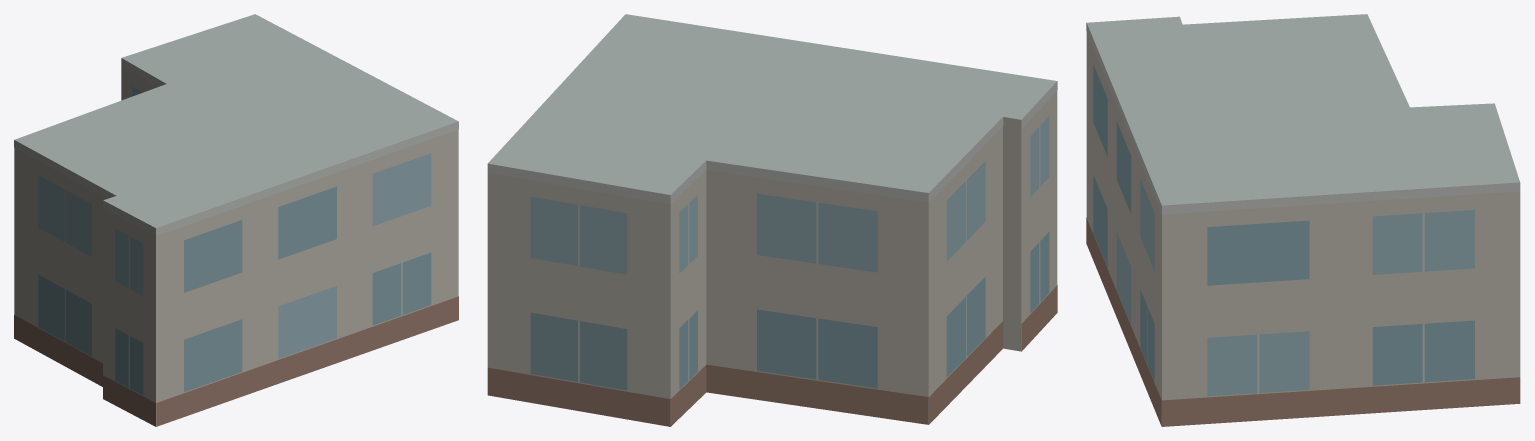
The model's file is survey-upis-32893207.glb.
The picture shows the model from 3 angles, left to right: view 1: azimuth 30°, elevation 25°; view 2: azimuth 150°, elevation 25°; view 3: azimuth 270°, elevation 25°; orthographic projection. The views are drawn at different scales.
Parts seen in each view (by area): view 1: survey-upis-32893207.tmp; view 2: survey-upis-32893207.tmp; view 3: survey-upis-32893207.tmp.
Part boxes in pixels (box(x1,y1,x2,y2)): survey-upis-32893207.tmp: box(14, 14, 458, 426); survey-upis-32893207.tmp: box(487, 14, 1057, 426); survey-upis-32893207.tmp: box(1086, 14, 1520, 426).
Size of the model in its own units: 11.33 by 6.1 by 10.84.
